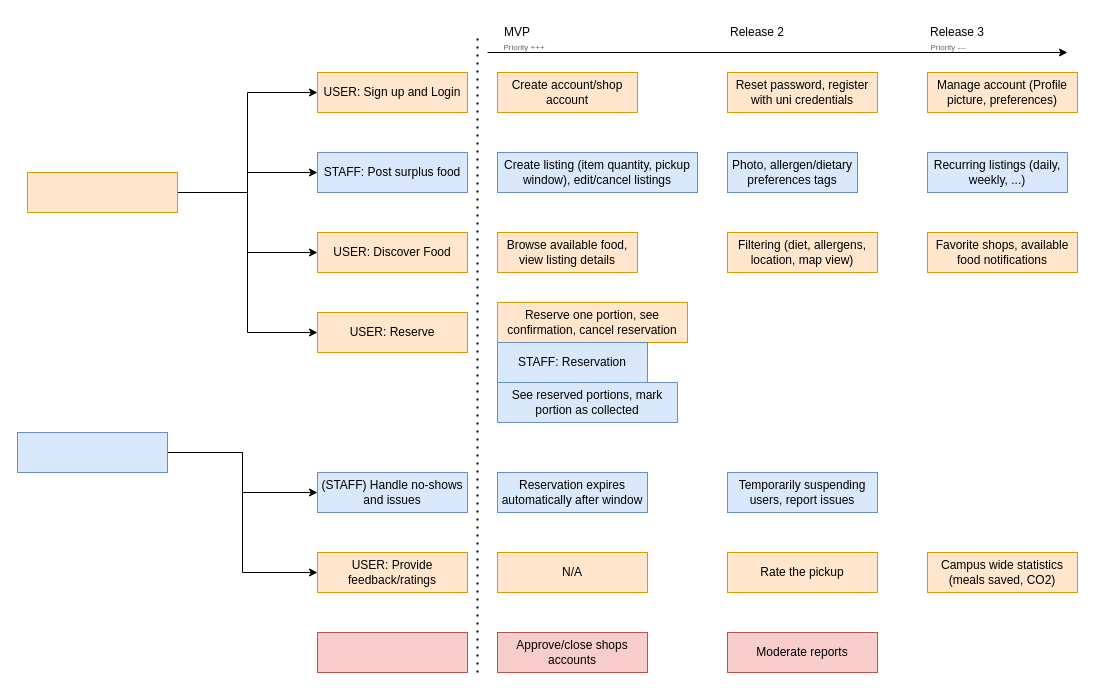
Some shapes in this 1095 by 691 pixel diagram are drawn without their labels. The box of each missing label's shape, as (x1, y1, x2, y2) in pixels:
ADMIN: administrate: (316, 632, 468, 672)
STAFF: Upload food: (16, 432, 168, 472)
USER: Access food: (26, 172, 178, 212)
